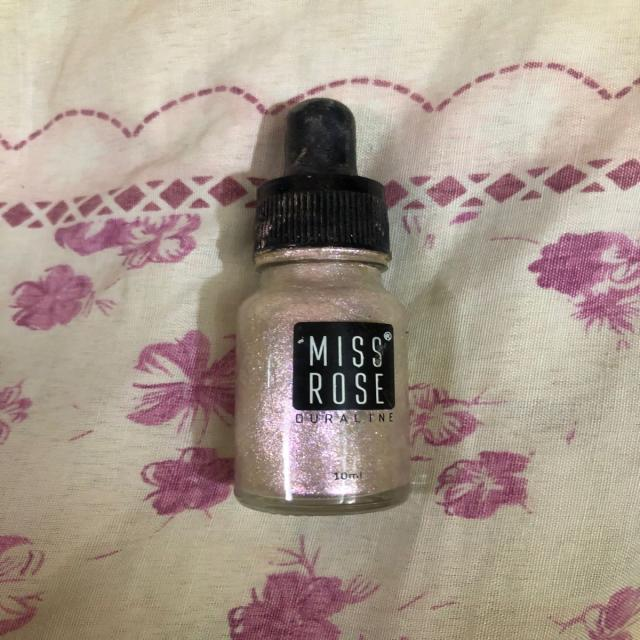serum: (212, 94, 439, 513)
